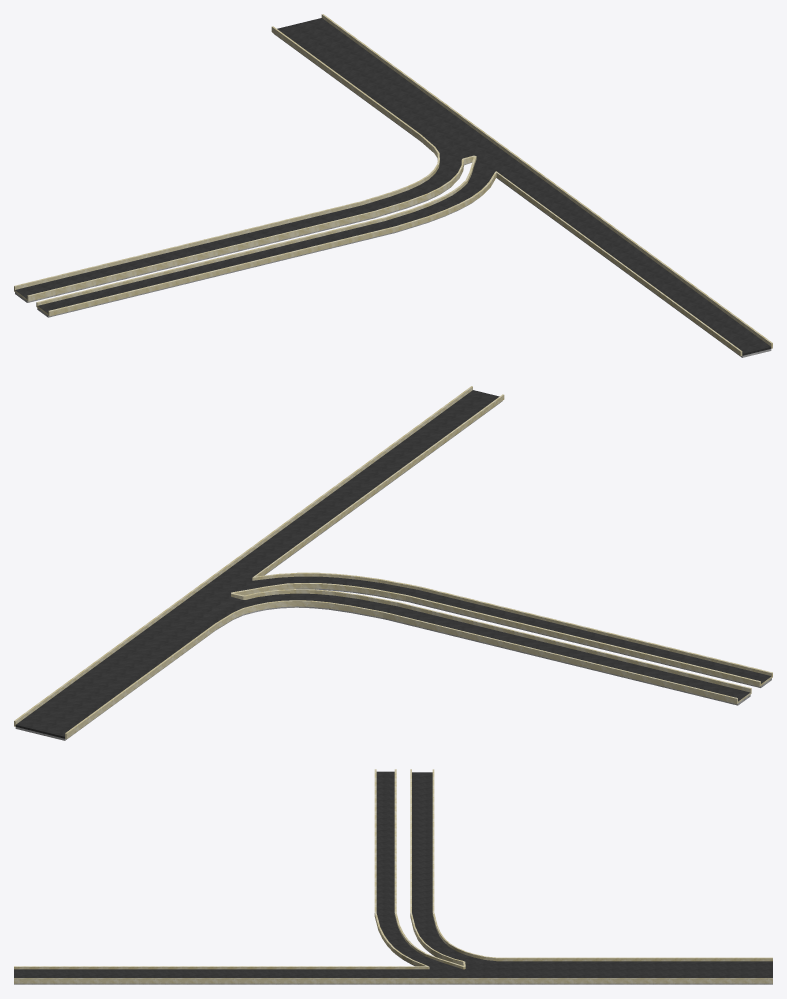
Rendered from Bridge.fbx.
3 renders of one model, top to bottom at view 1: azimuth 30°, elevation 25°; view 2: azimuth 150°, elevation 25°; view 3: azimuth 270°, elevation 25°, orthographic. The views are drawn at different scales.
Parts seen in each view (by area): view 1: Bridge; view 2: Bridge; view 3: Bridge.
Boxes of the visible parts, bbox=[...] form: Bridge: bbox=[14, 14, 772, 357]; Bridge: bbox=[14, 386, 772, 740]; Bridge: bbox=[14, 769, 772, 984].
Size of the model in its own units: 31270 by 478 by 47741.
Materials: 3 (3 with a texture image).
